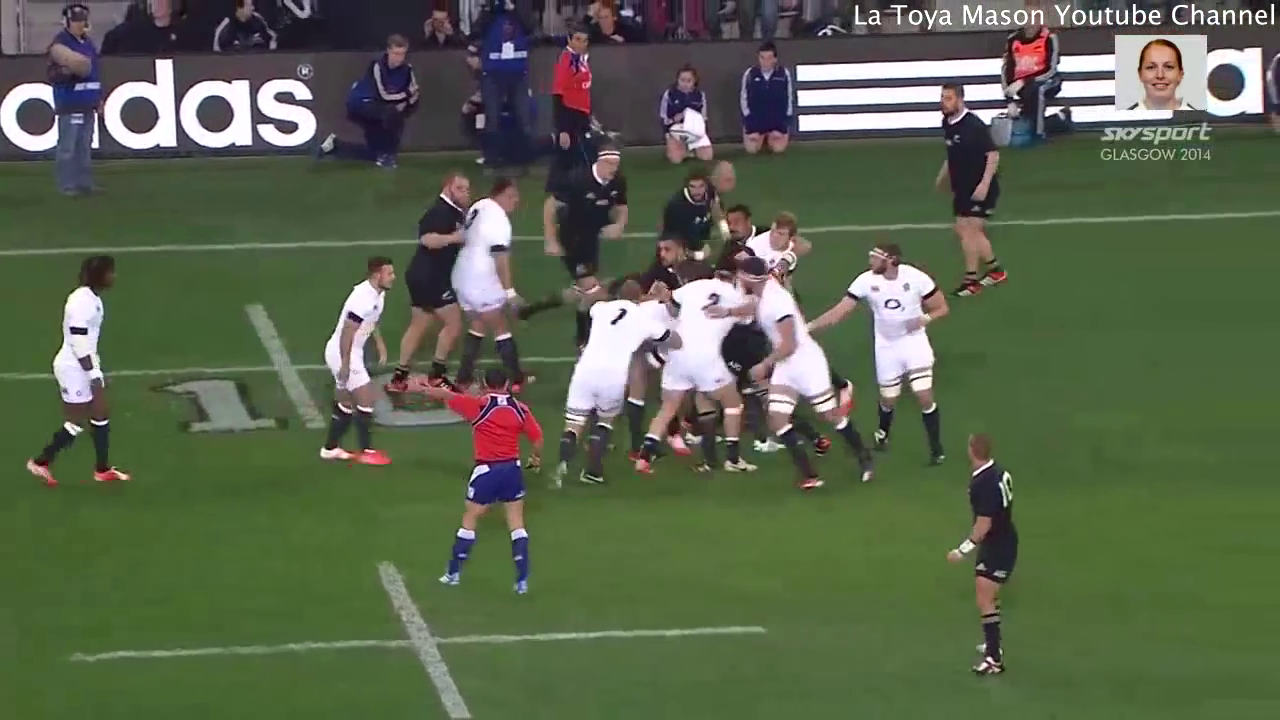maul: (583, 211, 853, 484)
player: (396, 368, 540, 602), (17, 247, 144, 498), (817, 244, 957, 466), (744, 262, 853, 482), (549, 282, 674, 469), (940, 428, 1024, 683), (928, 76, 1015, 308), (391, 173, 477, 399), (317, 253, 401, 476), (653, 273, 743, 479), (447, 174, 521, 394), (529, 144, 631, 276), (655, 175, 709, 244), (753, 208, 809, 272), (715, 207, 752, 262), (647, 244, 697, 280)
